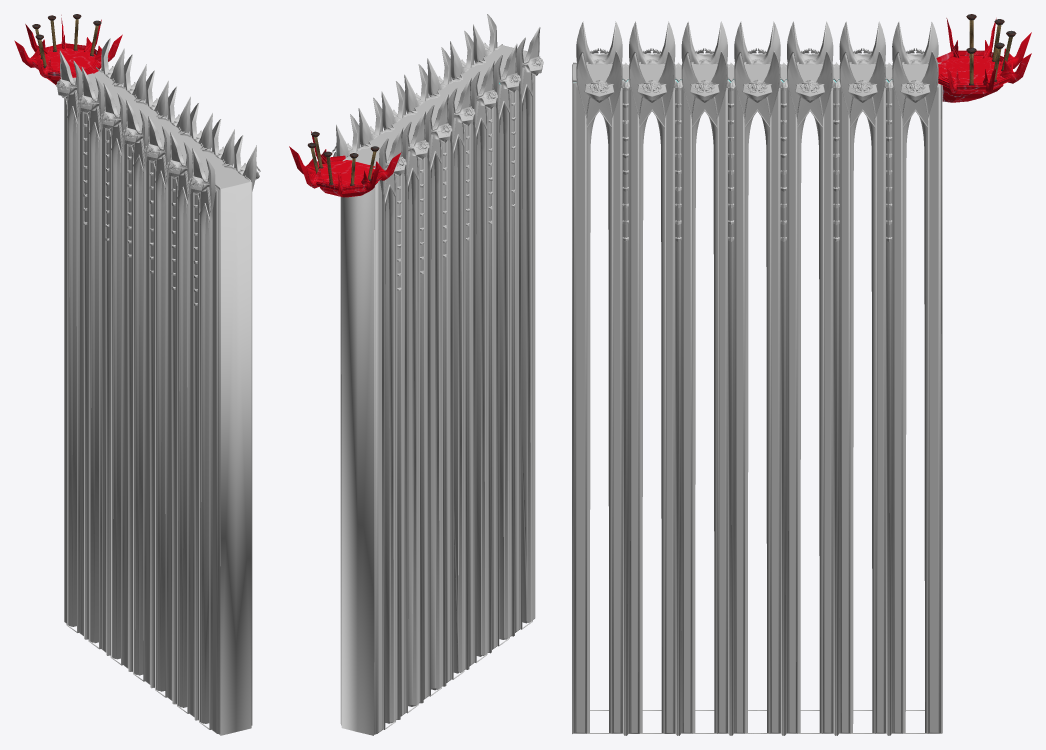
The model's file is SalleCombat_01.fbx.
3 views of the same model, side by side, from view 1: azimuth 30°, elevation 25°; view 2: azimuth 150°, elevation 25°; view 3: azimuth 270°, elevation 25° (orthographic). The views are drawn at different scales.
Visible parts, largest first — view 1: Pont.002, ArcheContour.002, ArcheContour.003, Sol.002, Plateforme, BlocsFer, Amblème.002; view 2: Pont.002, ArcheContour.002, ArcheContour.003, Plateforme, Sol.002, BlocsFer, Amblème.002; view 3: Pont.002, ArcheContour.002, ArcheContour.003, Plateforme, Sol.002, BlocsFer, Amblème.002.
Boxes of the visible parts, x1,y1,x2,y2 form: Pont.002: [57, 66, 259, 735]; ArcheContour.002: [60, 38, 256, 729]; ArcheContour.003: [59, 38, 256, 729]; Sol.002: [73, 71, 249, 188]; Plateforme: [14, 15, 122, 84]; BlocsFer: [83, 123, 197, 305]; Amblème.002: [56, 80, 260, 187]; Pont.002: [333, 42, 542, 735]; ArcheContour.002: [336, 14, 539, 729]; ArcheContour.003: [336, 14, 540, 729]; Plateforme: [289, 131, 401, 197]; Sol.002: [347, 46, 527, 166]; BlocsFer: [397, 102, 515, 290]; Amblème.002: [332, 57, 543, 168]; Pont.002: [572, 53, 942, 735]; ArcheContour.002: [576, 22, 938, 732]; ArcheContour.003: [577, 21, 937, 733]; Plateforme: [936, 18, 1031, 102]; Sol.002: [573, 62, 928, 81]; BlocsFer: [622, 86, 892, 241]; Amblème.002: [587, 48, 927, 92].
Size of the model in its own units: 3272 by 20741 by 12471.
